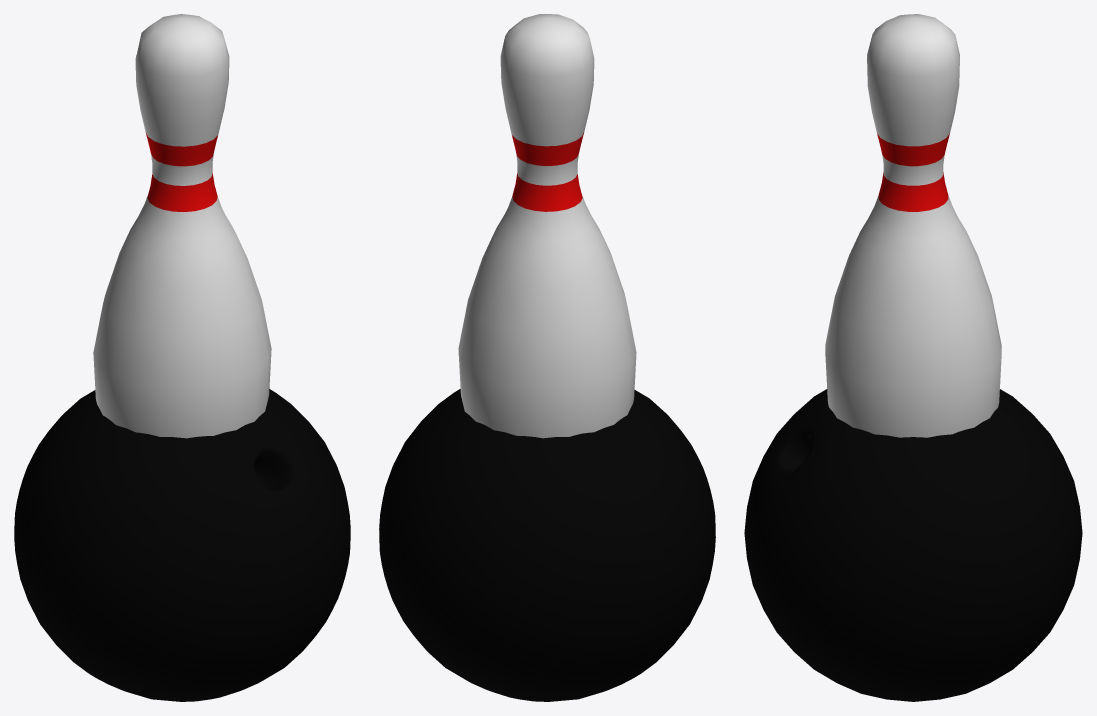
Rendered from Bowling.fbx.
3 views of the same model, side by side, from view 1: azimuth 30°, elevation 25°; view 2: azimuth 150°, elevation 25°; view 3: azimuth 270°, elevation 25° (orthographic).
Visible parts, largest first — view 1: Ball, Pin; view 2: Ball, Pin; view 3: Ball, Pin.
Part boxes in pixels (bbox=[...]): Ball: bbox=[14, 389, 350, 701]; Pin: bbox=[93, 14, 271, 438]; Ball: bbox=[379, 389, 715, 701]; Pin: bbox=[458, 14, 636, 438]; Ball: bbox=[744, 389, 1082, 701]; Pin: bbox=[825, 14, 1001, 437].
Size of the model in its own units: 0.4539 by 0.9894 by 0.4542.
